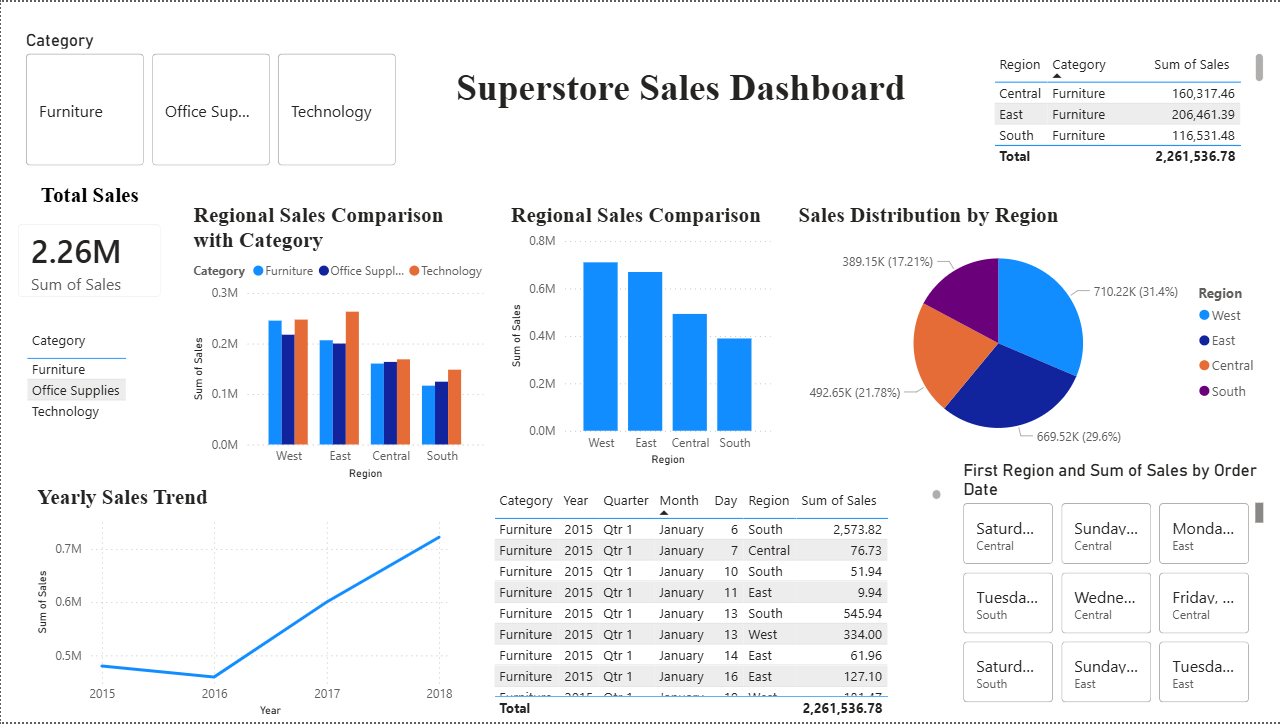

The page's visual inventory and layout, read from the dashboard file:
{"tool":"powerbi","page":{"name":"Page 1","canvas":[1280,720],"ordinal":0},"visuals":[{"type":"cardVisual","title":"Total Sales","fields":{"Data":["Sum(train.Sales)"]},"box":[0,181.2,177.5,131.2],"z":0},{"type":"clusteredColumnChart","title":"Regional Sales Comparison with Category","fields":{"Y":["Sum(train.Sales)"],"Category":["train.Region"],"Series":["train.Category"]},"box":[187.5,201.2,300,281.2],"z":2000},{"type":"clusteredColumnChart","title":"Regional Sales Comparison","fields":{"Y":["Sum(train.Sales)"],"Category":["train.Region"]},"box":[505,201.2,270,267.5],"z":3000},{"type":"tableEx","fields":{"Values":["train.Category"]},"box":[20,322.5,147.5,131.2],"z":4000},{"type":"advancedSlicerVisual","fields":{"Values":["train.Category"]},"box":[20,27.5,381.2,141.2],"z":5000},{"type":"lineChart","title":"Yearly Sales Trend","fields":{"Category":["train.Order Date.Variation.Date Hierarchy.Year","train.Order Date.Variation.Date Hierarchy.Quarter","train.Order Date.Variation.Date Hierarchy.Month","train.Order Date.Variation.Date Hierarchy.Day"],"Y":["Sum(train.Sales)"]},"box":[31.2,482.5,425,237.5],"z":6000},{"type":"tableEx","fields":{"Values":["train.Category","train.Order Date.Variation.Date Hierarchy.Year","train.Order Date.Variation.Date Hierarchy.Quarter","train.Order Date.Variation.Date Hierarchy.Month","train.Order Date.Variation.Date Hierarchy.Day","train.Region","Sum(train.Sales)"]},"box":[487.5,482.5,457.5,237.5],"z":7000},{"type":"pieChart","title":"Sales Distribution by Region","fields":{"Category":["train.Region"],"Y":["Sum(train.Sales)"]},"box":[792.5,201.2,475,256.2],"z":7001},{"type":"tableEx","fields":{"Values":["train.Region","train.Category","Sum(train.Sales)"]},"box":[987.5,46.2,280,122.5],"z":7002},{"type":"textbox","box":[427.5,58.8,505,62.5],"z":7003},{"type":"advancedSlicerVisual","fields":{"Label":["Min(train.Region)"],"Values":["train.Order Date"]},"box":[957.5,457.5,310,247.5],"z":7004}]}

Visuals, with their boxes in screenshot pixels (x1, y1, x2, y2), scaled from the page's 1280x720 canvas onto the 1281x724 screenshot:
"Total Sales" cardVisual: l=0, t=182, r=178, b=314
"Regional Sales Comparison with Category" clusteredColumnChart: l=188, t=202, r=488, b=485
"Regional Sales Comparison" clusteredColumnChart: l=505, t=202, r=776, b=471
tableEx - train.Category: l=20, t=324, r=168, b=456
advancedSlicerVisual - train.Category: l=20, t=28, r=402, b=170
"Yearly Sales Trend" lineChart: l=31, t=485, r=457, b=723
tableEx - train.Category x train.Order Date.Variation.Date Hierarchy.Year: l=488, t=485, r=946, b=723
"Sales Distribution by Region" pieChart: l=793, t=202, r=1268, b=460
tableEx - train.Region x train.Category: l=988, t=46, r=1268, b=170
textbox: l=428, t=59, r=933, b=122
advancedSlicerVisual - Min(train.Region) x train.Order Date: l=958, t=460, r=1268, b=709
